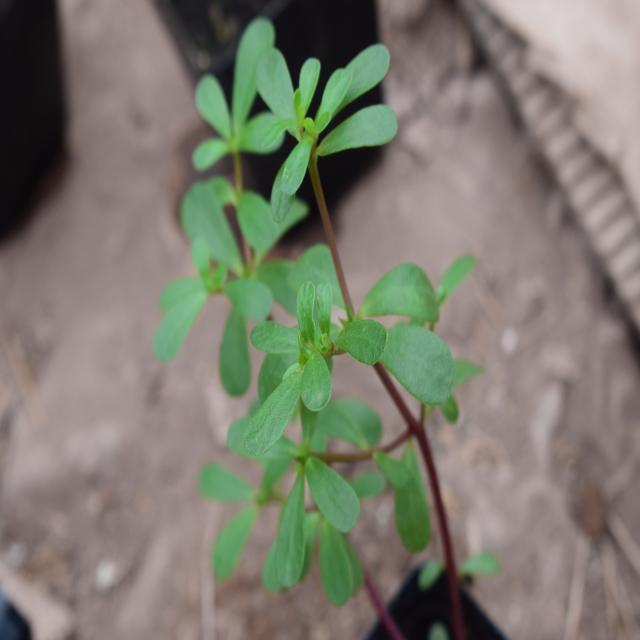purslane: (165, 36, 493, 579)
